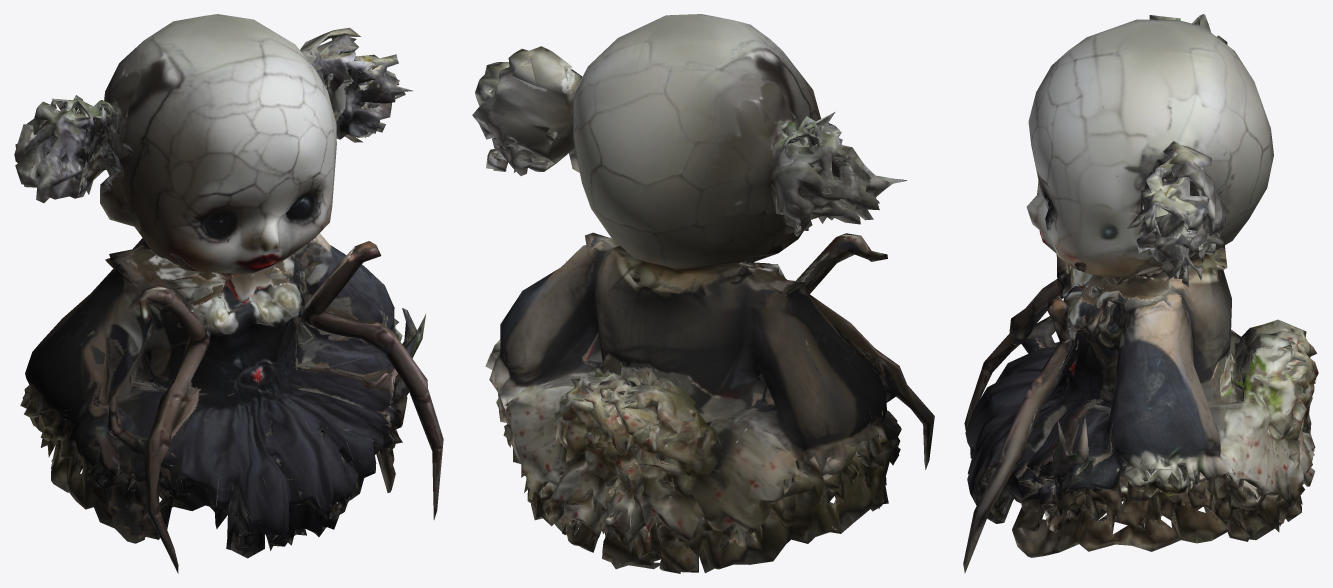
Rendered from Doll.glb.
3 renders of one model, left to right at view 1: azimuth 30°, elevation 25°; view 2: azimuth 150°, elevation 25°; view 3: azimuth 270°, elevation 25°, orthographic. The views are drawn at different scales.
Parts seen in each view (by area): view 1: Object_2; view 2: Object_2; view 3: Object_2.
Part boxes in pixels (left/top/right/bottom): Object_2: left=14, top=14, right=443, bottom=573; Object_2: left=472, top=14, right=934, bottom=573; Object_2: left=963, top=14, right=1318, bottom=572.
Size of the model in its own units: 1.72 by 1.99 by 1.33.
1 material, 1 textured.
